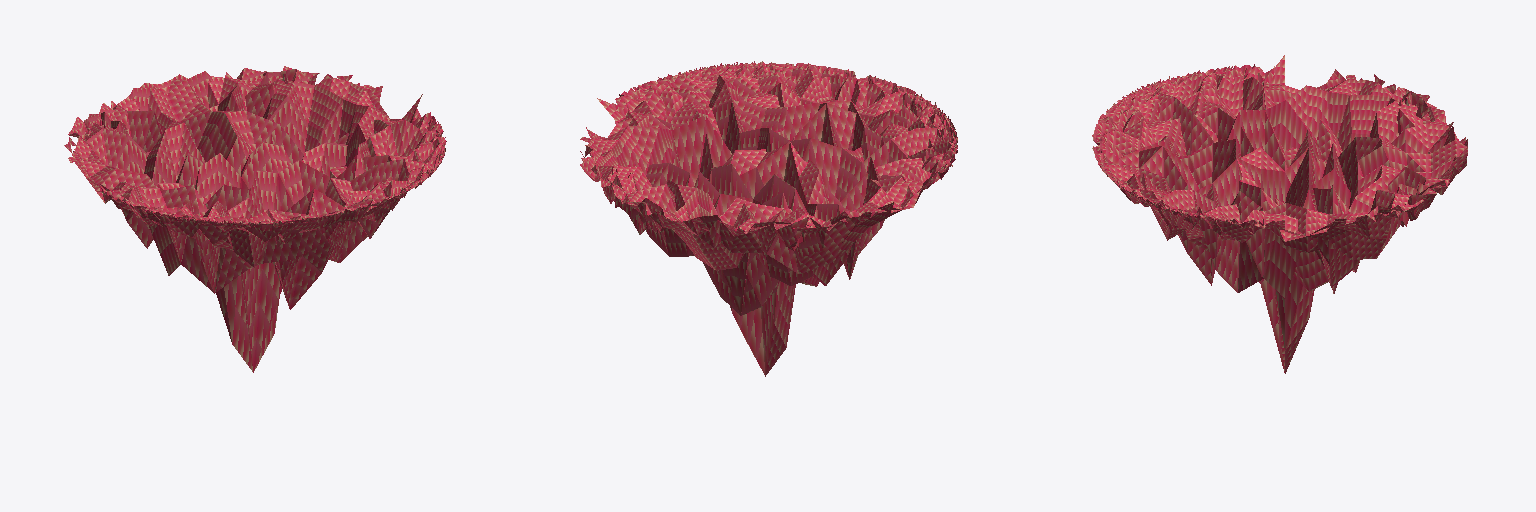
The picture shows the model from 3 angles: view 1: azimuth 30°, elevation 25°; view 2: azimuth 150°, elevation 25°; view 3: azimuth 270°, elevation 25°; orthographic projection.
Visible parts, largest first — view 1: groundfinal.005; view 2: groundfinal.005; view 3: groundfinal.005.
Boxes of the visible parts, x1=… form: groundfinal.005: x1=64, y1=66, x2=446, y2=372; groundfinal.005: x1=580, y1=61, x2=957, y2=376; groundfinal.005: x1=1092, y1=55, x2=1467, y2=373.
Bounding box in the file's own units: 322 × 216 × 310.
Materials: 1 (1 with a texture image).